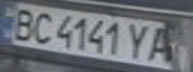1: (103, 19, 127, 56), (69, 15, 87, 51)
4: (84, 17, 109, 54), (51, 12, 75, 48)
A: (142, 22, 181, 64)
B: (3, 6, 39, 42)
C: (24, 10, 57, 45)
Y: (124, 20, 157, 61)
